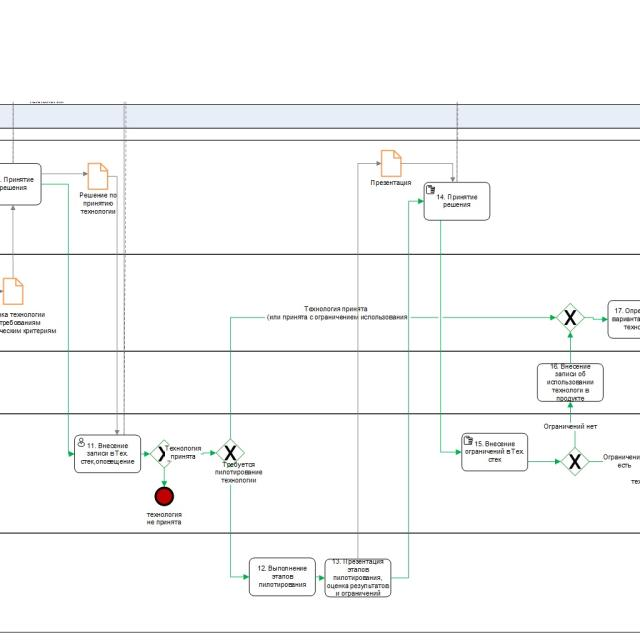arrow: (228, 313, 556, 439), (391, 198, 424, 580), (41, 182, 75, 457), (436, 220, 462, 456), (228, 466, 248, 581), (565, 402, 578, 448), (179, 450, 216, 458), (566, 332, 574, 363), (528, 458, 561, 465), (584, 314, 607, 324), (161, 466, 168, 487), (316, 572, 324, 582), (141, 450, 150, 458)
circle: (155, 487, 174, 506)
diamond: (216, 438, 245, 468), (556, 303, 585, 332), (561, 447, 589, 476), (150, 439, 178, 468)
rectangle: (423, 181, 491, 221), (248, 556, 316, 596), (324, 558, 392, 598), (460, 432, 529, 471), (74, 434, 141, 474), (537, 362, 604, 402)
text_region: (266, 304, 408, 322), (214, 461, 264, 484), (164, 443, 202, 461), (145, 511, 183, 528), (543, 421, 599, 431)
